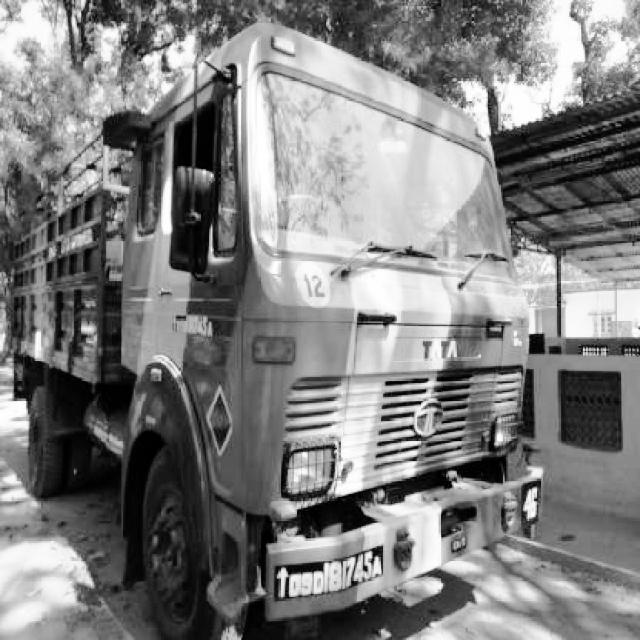HCV: (3, 114, 507, 622)
